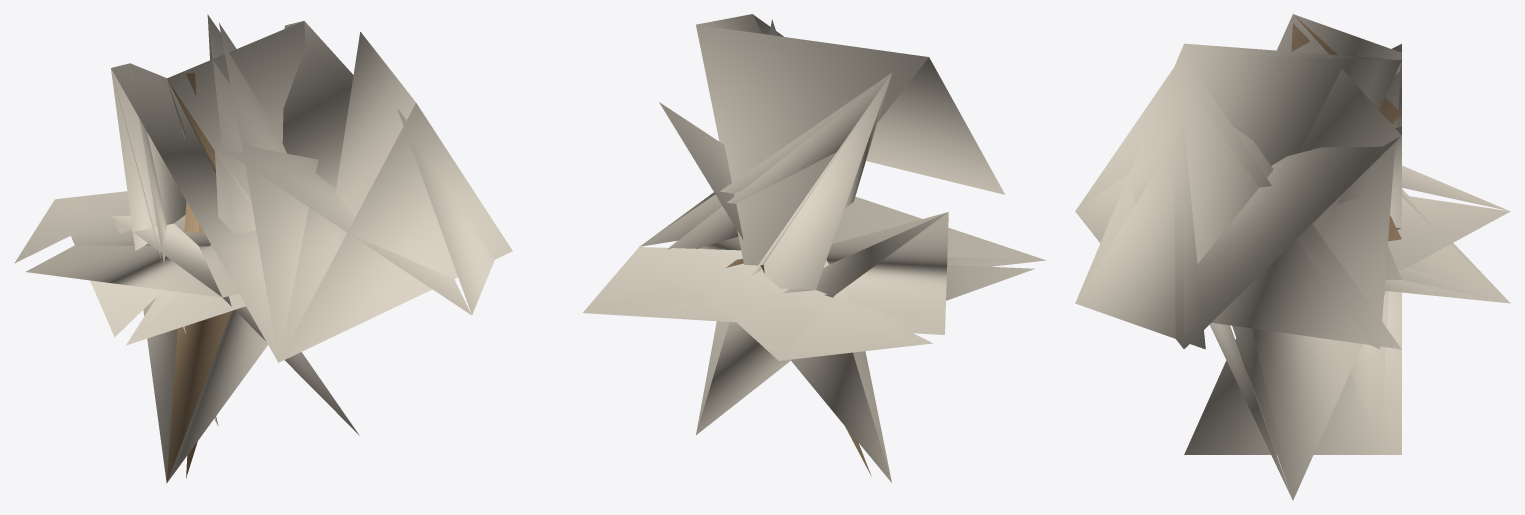
File: building_shell_small.glb
3 views of the same model, side by side, from view 1: azimuth 30°, elevation 25°; view 2: azimuth 150°, elevation 25°; view 3: azimuth 270°, elevation 25° (orthographic). The views are drawn at different scales.
Parts seen in each view (by area): view 1: building_shell_small; view 2: building_shell_small; view 3: building_shell_small.
Part boxes in pixels (x1,y1,x2,y2): building_shell_small: [14, 14, 512, 483]; building_shell_small: [583, 14, 1046, 482]; building_shell_small: [1075, 14, 1510, 500].
Size of the model in its own units: 2 by 2 by 2.
